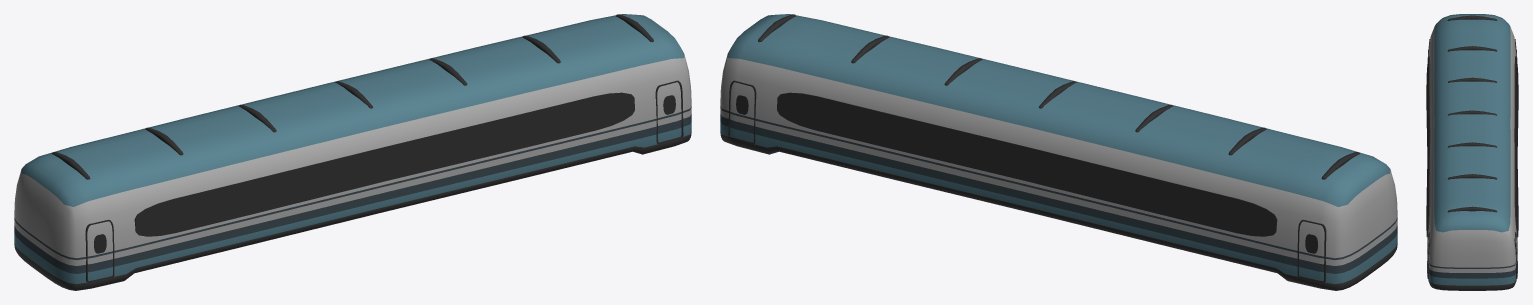
Rendered from High Speed Wagon.glb.
3 renders of one model, left to right at view 1: azimuth 30°, elevation 25°; view 2: azimuth 150°, elevation 25°; view 3: azimuth 270°, elevation 25°, orthographic. The views are drawn at different scales.
Parts seen in each view (by area): view 1: HighspeedTrain_Wagon; view 2: HighspeedTrain_Wagon; view 3: HighspeedTrain_Wagon.
Boxes of the visible parts, <box> form: HighspeedTrain_Wagon: <box>14,14,691,290</box>; HighspeedTrain_Wagon: <box>720,14,1397,290</box>; HighspeedTrain_Wagon: <box>1426,14,1518,290</box>.
Size of the model in its own units: 11.18 by 1.9 by 2.03.
